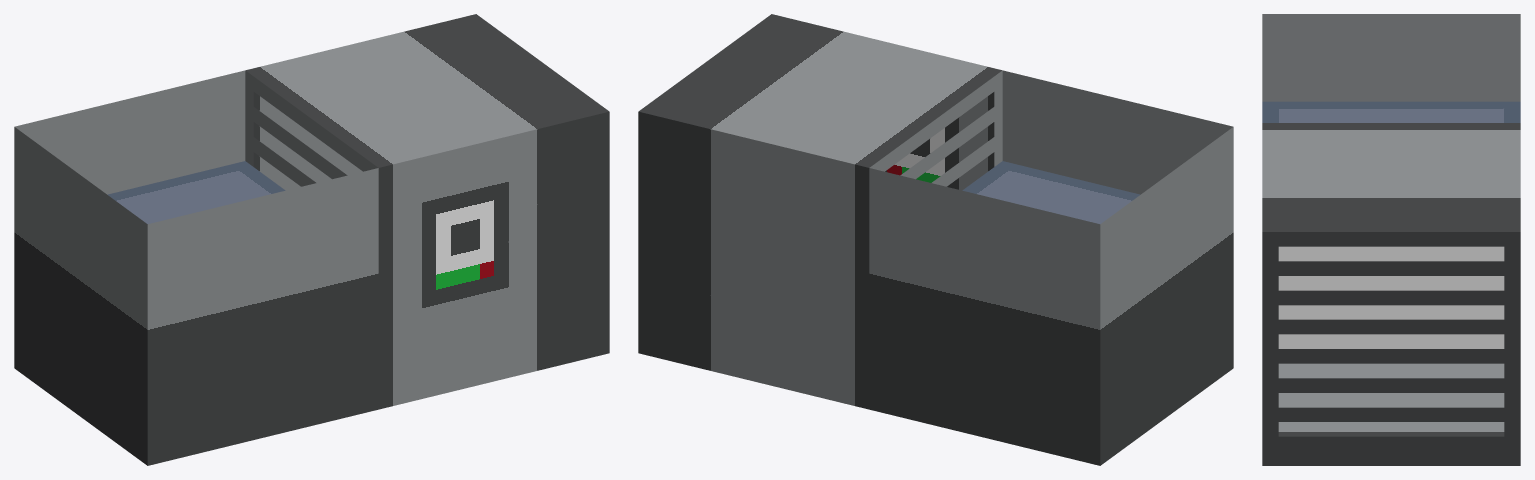
Rendered from withering_machine.gltf.
The picture shows the model from 3 angles, left to right: view 1: azimuth 30°, elevation 25°; view 2: azimuth 150°, elevation 25°; view 3: azimuth 270°, elevation 25°; orthographic projection. The views are drawn at different scales.
Visible parts, largest first — view 1: control_section, withering_walls, withering_base; view 2: control_section, withering_walls, withering_base; view 3: control_section, withering_walls, withering_base.
Part boxes in pixels (<box>): control_section: <box>245,14,609,409</box>; withering_walls: <box>14,70,378,314</box>; withering_base: <box>14,217,378,465</box>; control_section: <box>638,14,1002,409</box>; withering_walls: <box>869,70,1233,314</box>; withering_base: <box>869,217,1233,465</box>; control_section: <box>1262,123,1520,465</box>; withering_walls: <box>1262,14,1520,122</box>; withering_base: <box>1278,246,1504,348</box>.
Bounding box in the file's own units: 2 × 1 × 1.
Materials: 3 (3 with a texture image).
